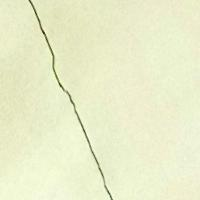crack: (20, 1, 116, 198)
